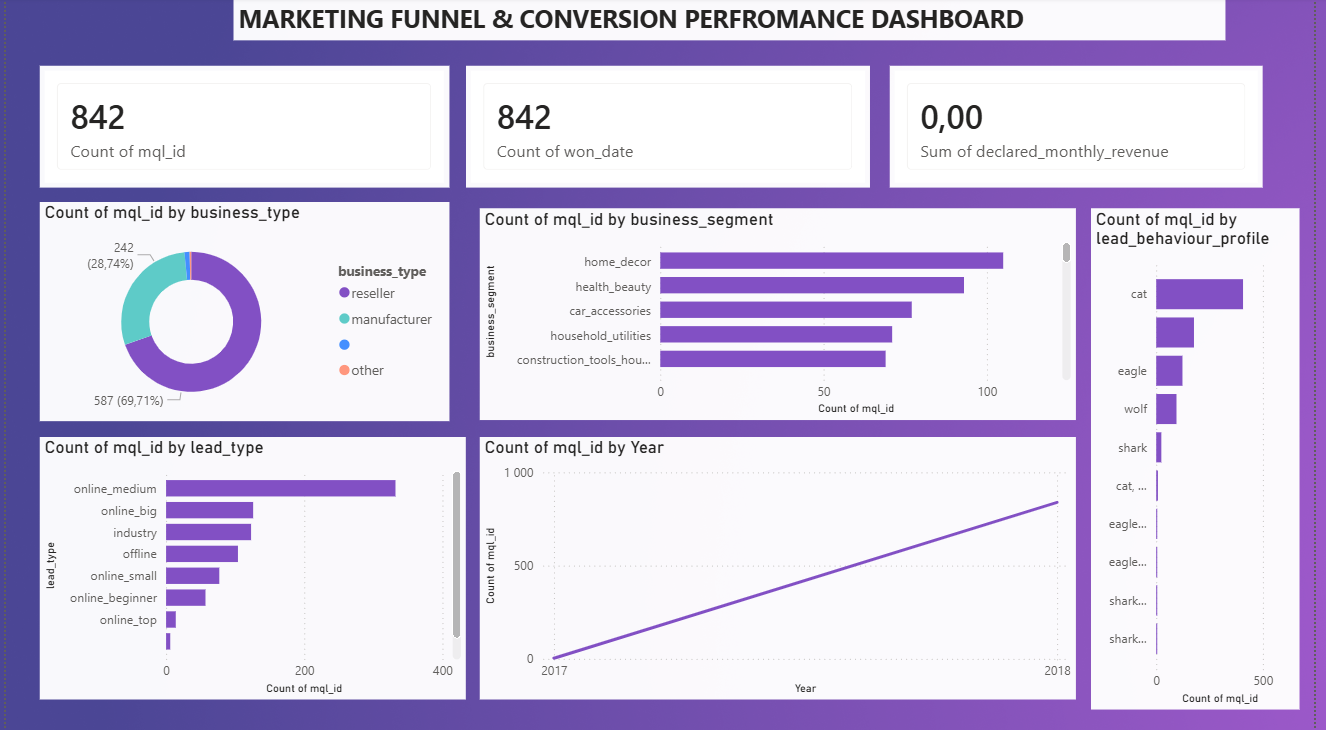

The page's visual inventory and layout, read from the dashboard file:
{"tool":"powerbi","page":{"name":"FUNNEL DASHBOARD","canvas":[1280,720],"ordinal":0},"visuals":[{"type":"textbox","box":[222.3,0,970.2,42.5],"z":0},{"type":"cardVisual","fields":{"Data":["Count(olist_closed_deals_dataset.mql_id)"]},"box":[32.9,67.2,400.7,119.4],"z":1000},{"type":"cardVisual","fields":{"Data":["CountNonNull(olist_closed_deals_dataset.won_date)"]},"box":[450.1,67.2,395.2,119.4],"z":2000},{"type":"cardVisual","fields":{"Data":["Sum(olist_closed_deals_dataset.declared_monthly_revenue)"]},"box":[864.5,67.2,365,119.4],"z":3000},{"type":"donutChart","fields":{"Category":["olist_closed_deals_dataset.business_type"],"Y":["Count(olist_closed_deals_dataset.mql_id)"]},"box":[32.9,200.3,400.7,214.1],"z":4000},{"type":"clusteredBarChart","fields":{"Category":["olist_closed_deals_dataset.business_segment"],"Y":["Count(olist_closed_deals_dataset.mql_id)"]},"box":[463.8,207.2,583.2,207.2],"z":5000},{"type":"clusteredBarChart","fields":{"Category":["olist_closed_deals_dataset.lead_type"],"Y":["Count(olist_closed_deals_dataset.mql_id)"]},"box":[32.9,430.9,417.2,256.6],"z":6000},{"type":"lineChart","fields":{"Category":["olist_closed_deals_dataset.won_date.Variation.Date Hierarchy.Year","olist_closed_deals_dataset.won_date.Variation.Date Hierarchy.Quarter","olist_closed_deals_dataset.won_date.Variation.Date Hierarchy.Month","olist_closed_deals_dataset.won_date.Variation.Date Hierarchy.Day"],"Y":["Count(olist_closed_deals_dataset.mql_id)"]},"box":[464,431,583,257],"z":7000},{"type":"clusteredBarChart","fields":{"Category":["olist_closed_deals_dataset.lead_behaviour_profile"],"Y":["Count(olist_closed_deals_dataset.mql_id)"]},"box":[1061.4,206.7,204.2,490.4],"z":8000}]}

Visuals, with their boxes in screenshot pixels (x1, y1, x2, y2), scaled from the page's 1280x720 canvas onto the 1326x730 screenshot:
textbox: (x1=230, y1=0, x2=1235, y2=43)
cardVisual - Count(olist_closed_deals_dataset.mql_id): (x1=34, y1=68, x2=449, y2=189)
cardVisual - CountNonNull(olist_closed_deals_dataset.won_date): (x1=466, y1=68, x2=876, y2=189)
cardVisual - Sum(olist_closed_deals_dataset.declared_monthly_revenue): (x1=896, y1=68, x2=1274, y2=189)
donutChart - olist_closed_deals_dataset.business_type x Count(olist_closed_deals_dataset.mql_id): (x1=34, y1=203, x2=449, y2=420)
clusteredBarChart - olist_closed_deals_dataset.business_segment x Count(olist_closed_deals_dataset.mql_id): (x1=480, y1=210, x2=1085, y2=420)
clusteredBarChart - olist_closed_deals_dataset.lead_type x Count(olist_closed_deals_dataset.mql_id): (x1=34, y1=437, x2=466, y2=697)
lineChart - olist_closed_deals_dataset.won_date.Variation.Date Hierarchy.Year x olist_closed_deals_dataset.won_date.Variation.Date Hierarchy.Quarter: (x1=481, y1=437, x2=1085, y2=698)
clusteredBarChart - olist_closed_deals_dataset.lead_behaviour_profile x Count(olist_closed_deals_dataset.mql_id): (x1=1100, y1=210, x2=1311, y2=707)
